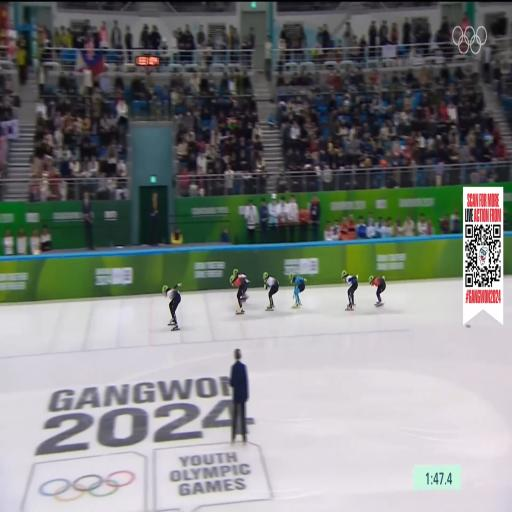Skater: (162, 284, 181, 330), (230, 272, 249, 314), (342, 271, 358, 310), (263, 272, 278, 310), (290, 275, 306, 308), (369, 276, 385, 306), (233, 269, 249, 282)
